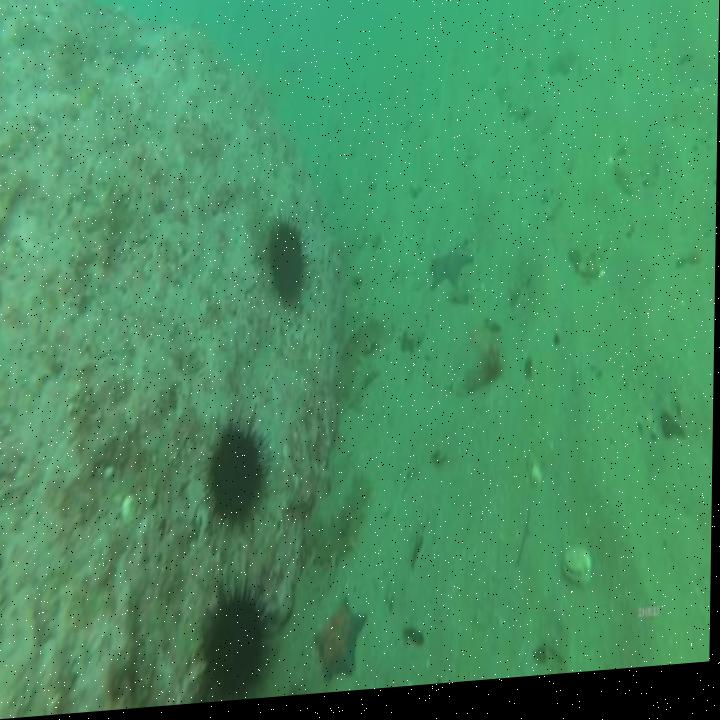echinus: (200, 576, 276, 707), (205, 416, 271, 538), (265, 218, 308, 314)
holothurian: (301, 470, 372, 579), (334, 313, 387, 410), (464, 345, 503, 404)
scallop: (563, 545, 595, 600)
starfish: (313, 596, 369, 689), (426, 238, 479, 305)
